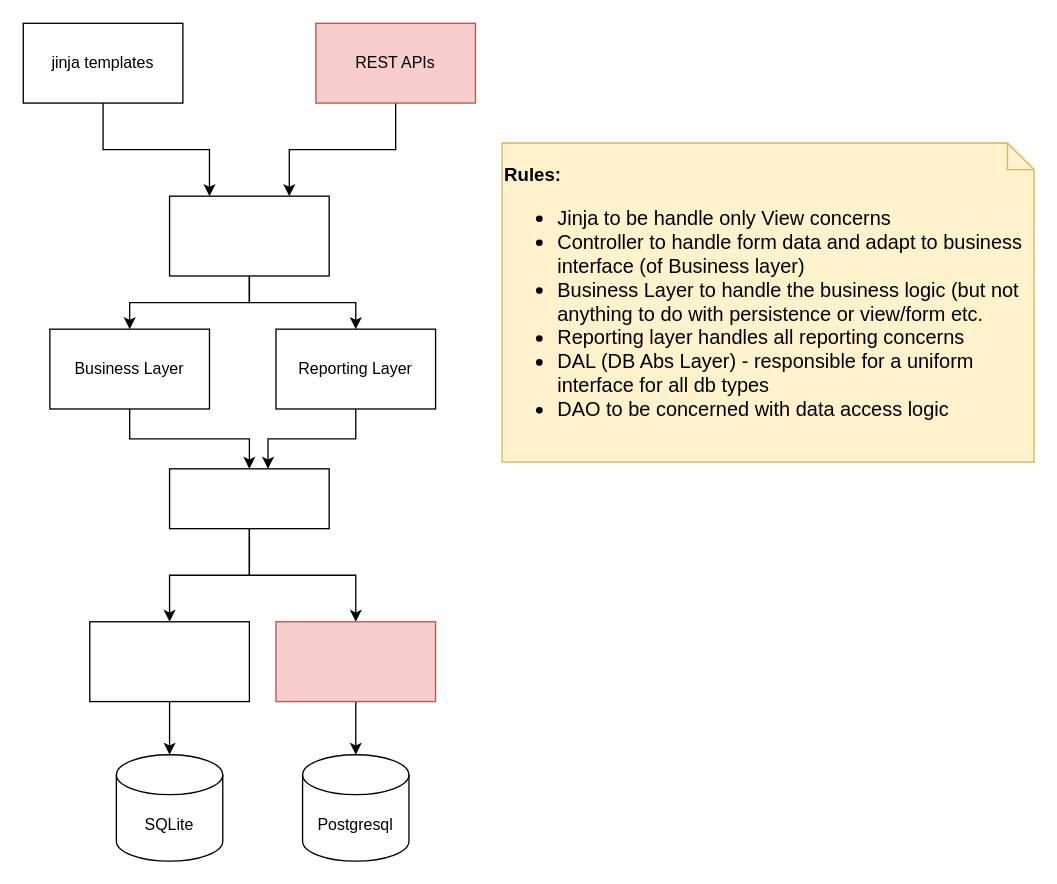
Some shapes in this 1057 by 884 pixel diagram are drawn without their labels. The shapes that lost their labels are listed below. From the top down, each one's centre as x and y in pixels, then its label:
the point at 248,235: Controller
the point at 248,498: DA Abs Layer
the point at 168,661: SQLite DAL
the point at 355,661: Postgresql DAL
